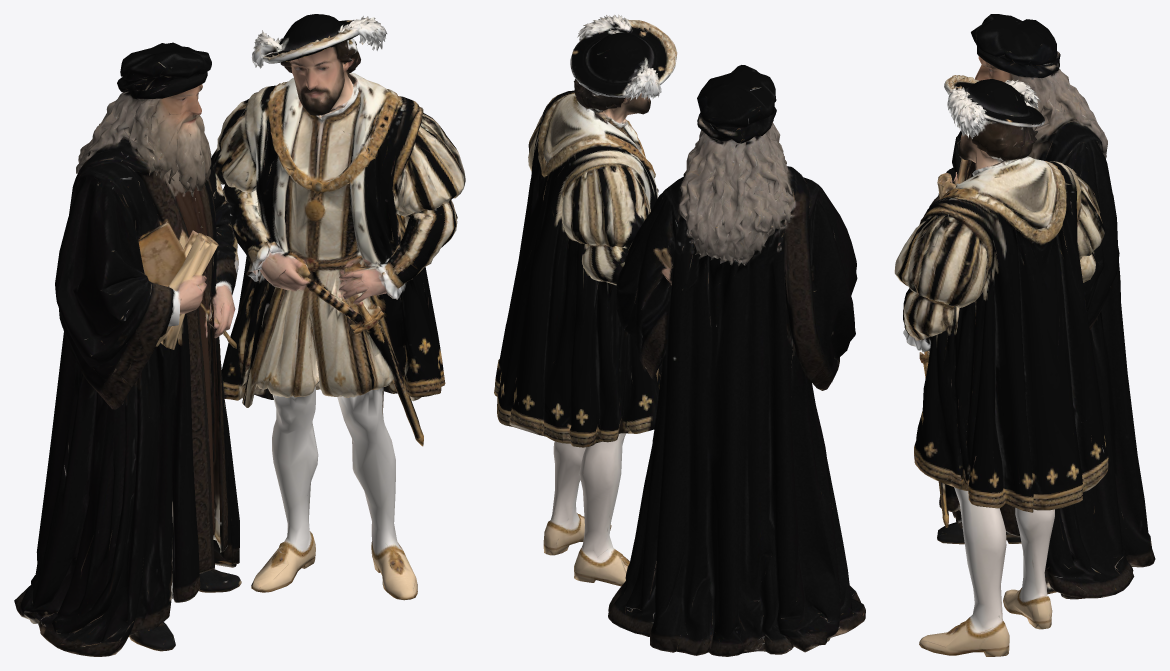
Rendered from davinci-françois1er.glb.
3 renders of one model, left to right at view 1: azimuth 30°, elevation 25°; view 2: azimuth 150°, elevation 25°; view 3: azimuth 270°, elevation 25°, orthographic. The views are drawn at different scales.
Parts seen in each view (by area): view 1: Mesh1.0; view 2: Mesh1.0; view 3: Mesh1.0.
Boxes of the visible parts, x1,y1,x2,y2 form: Mesh1.0: [14, 14, 465, 656]; Mesh1.0: [494, 14, 865, 656]; Mesh1.0: [894, 14, 1155, 656].
Size of the model in its own units: 1.33 by 1.9 by 0.8288.
1 material, 1 textured.
